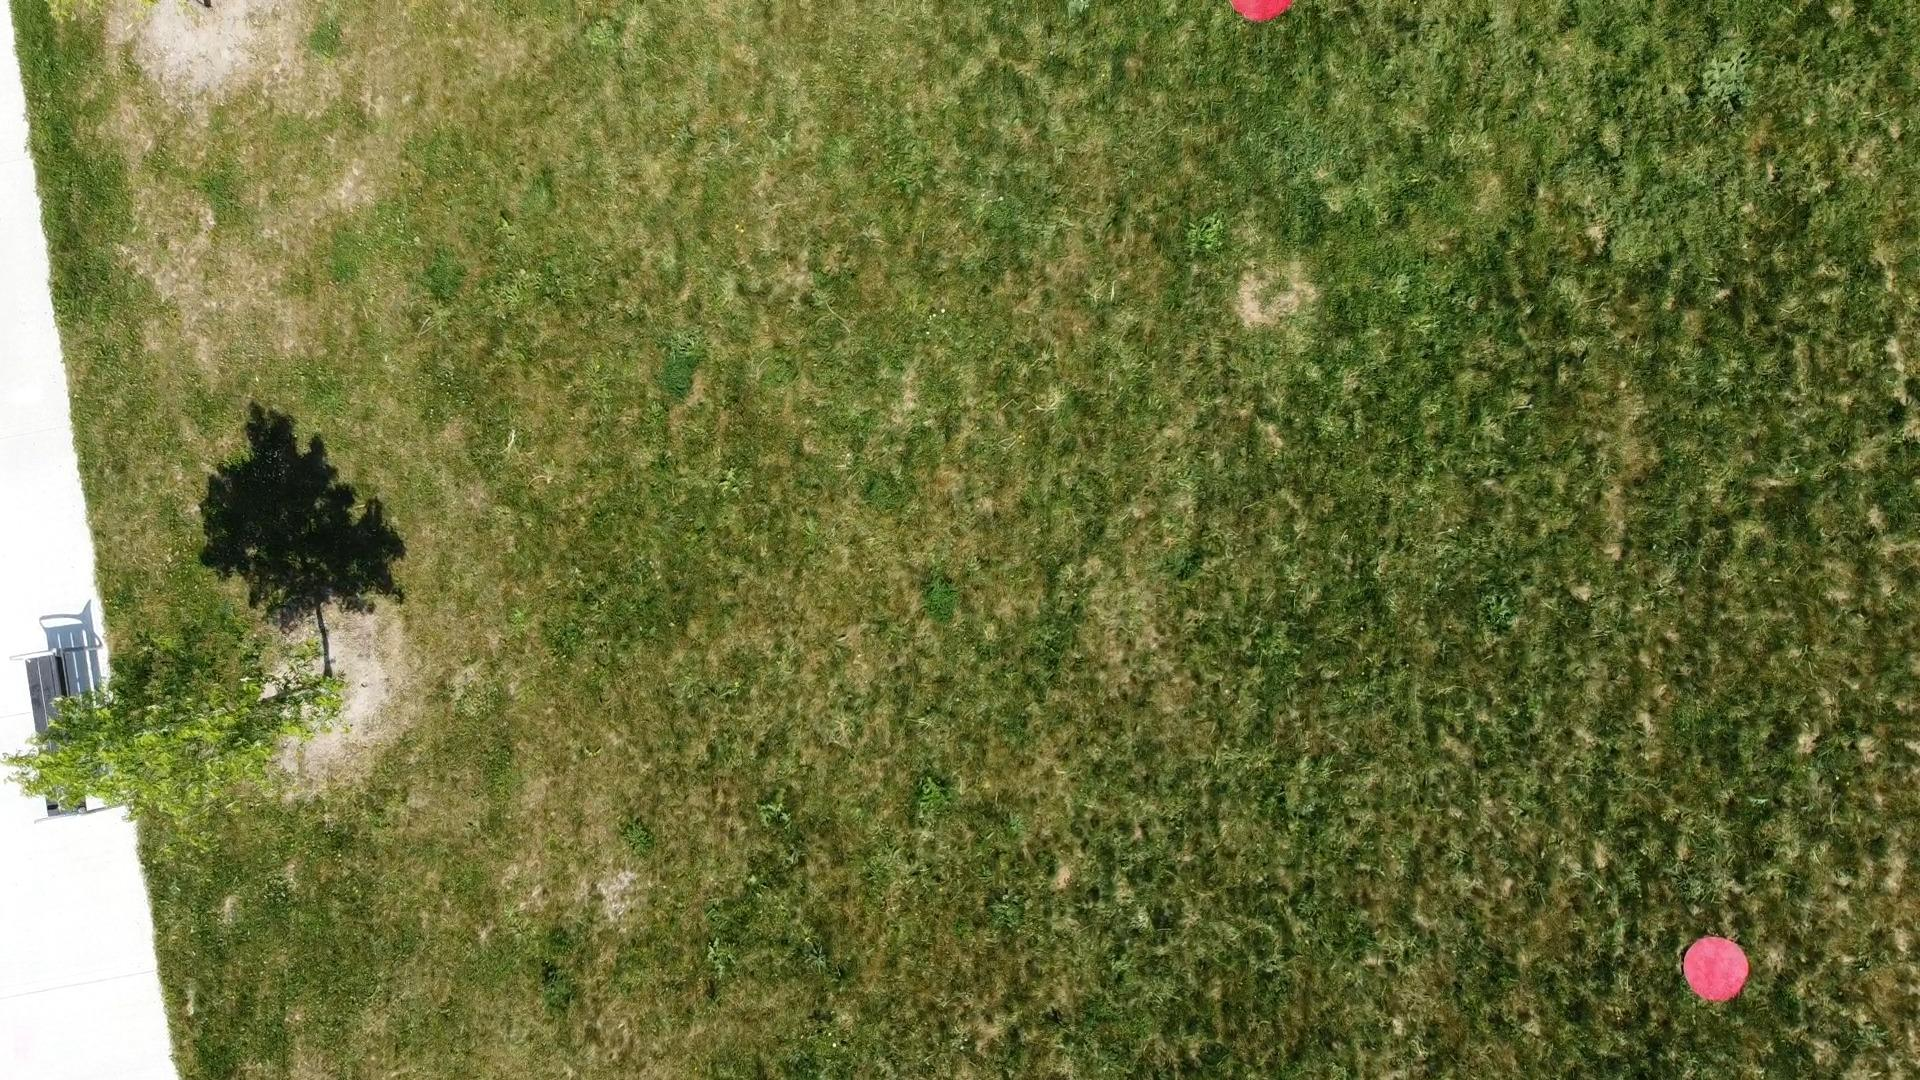Red: (1677, 934, 1753, 1004), (1229, 0, 1296, 25)
